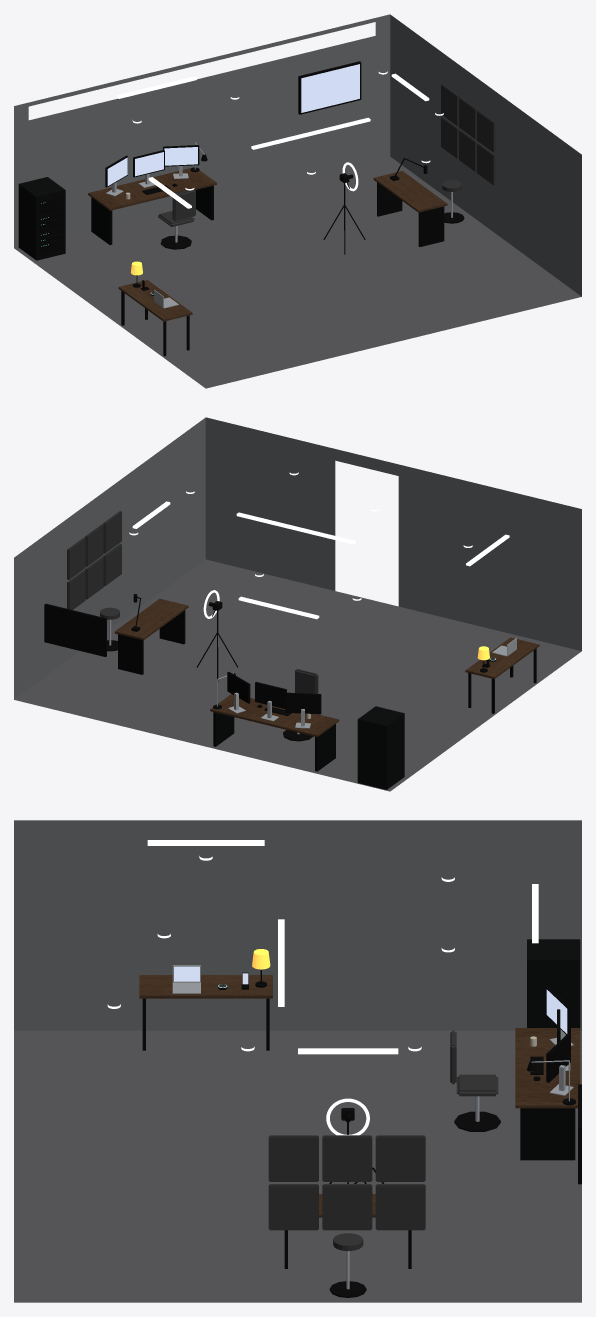
The model's file is room-ai.glb.
The picture shows the model from 3 angles, top to bottom: view 1: azimuth 30°, elevation 25°; view 2: azimuth 150°, elevation 25°; view 3: azimuth 270°, elevation 25°; orthographic projection. The views are drawn at different scales.
Visible parts, largest first — view 1: ai_shell, theoses_desk, lab_corner, screen_89lab, yen_console, glow_ai_bars, screen_theoses_right, screen_theoses; view 2: ai_shell, theoses_desk, lab_corner, yen_console, glow_ai_bars; view 3: ai_shell, lab_corner, theoses_desk, yen_console, glow_ai_bars.
Part boxes in pixels (bbox=[...]): ai_shell: bbox=[14, 14, 581, 388]; theoses_desk: bbox=[18, 142, 216, 260]; lab_corner: bbox=[298, 61, 495, 254]; screen_89lab: bbox=[301, 64, 359, 112]; yen_console: bbox=[118, 275, 192, 356]; glow_ai_bars: bbox=[116, 73, 429, 208]; screen_theoses_right: bbox=[164, 147, 197, 165]; screen_theoses: bbox=[135, 152, 163, 176]; ai_shell: bbox=[14, 417, 581, 791]; theoses_desk: bbox=[210, 669, 404, 789]; lab_corner: bbox=[44, 511, 238, 681]; yen_console: bbox=[465, 637, 539, 713]; glow_ai_bars: bbox=[132, 501, 509, 619]; ai_shell: bbox=[14, 820, 581, 1302]; lab_corner: bbox=[268, 1084, 581, 1297]; theoses_desk: bbox=[450, 939, 580, 1160]; yen_console: bbox=[139, 965, 272, 1050]; glow_ai_bars: bbox=[147, 840, 538, 1054].
Size of the model in its own units: 7.7 by 2.78 by 6.8.
Materials: 18 (1 with a texture image).
